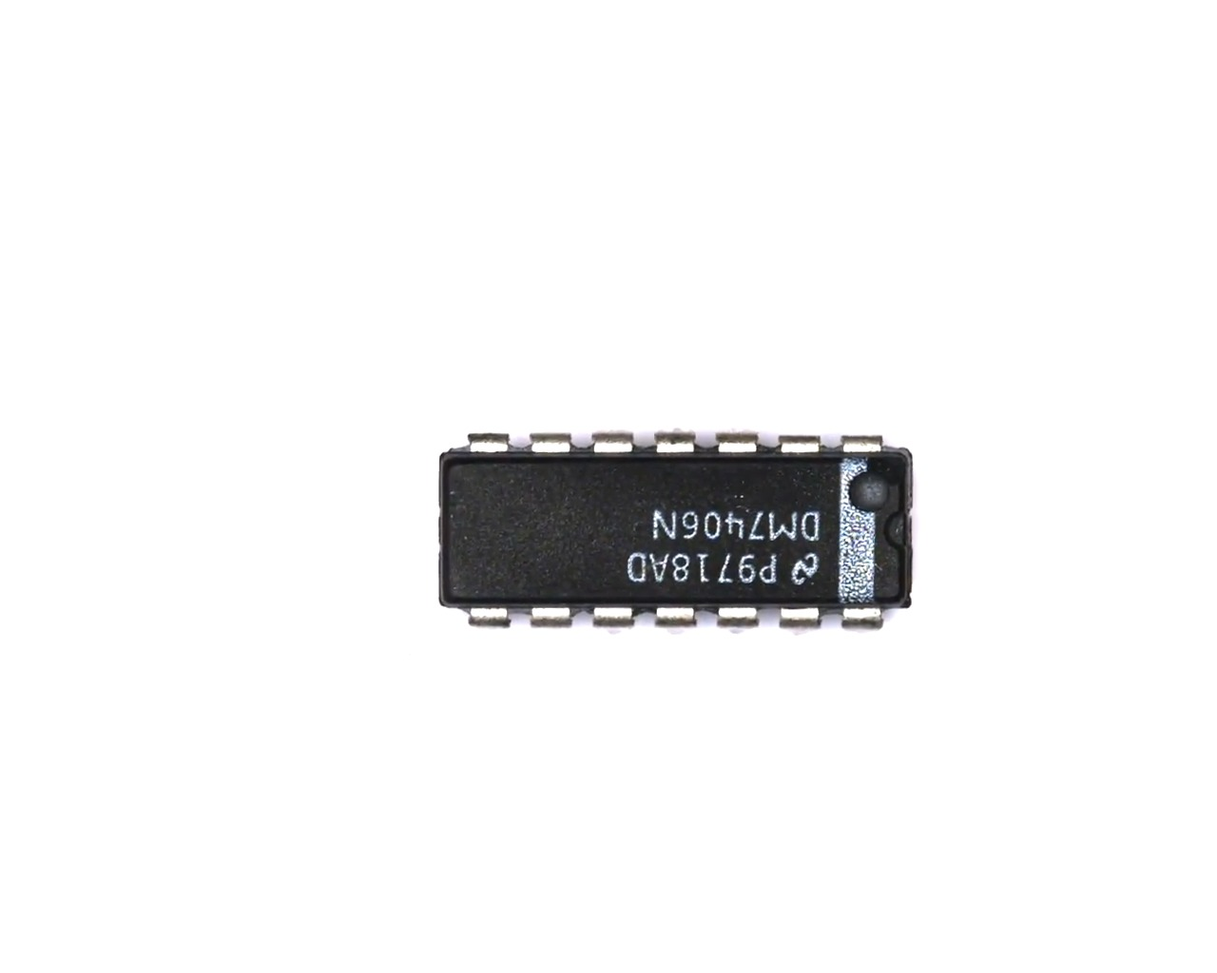IC: (430, 420, 926, 645)
notch: (882, 508, 914, 554)
